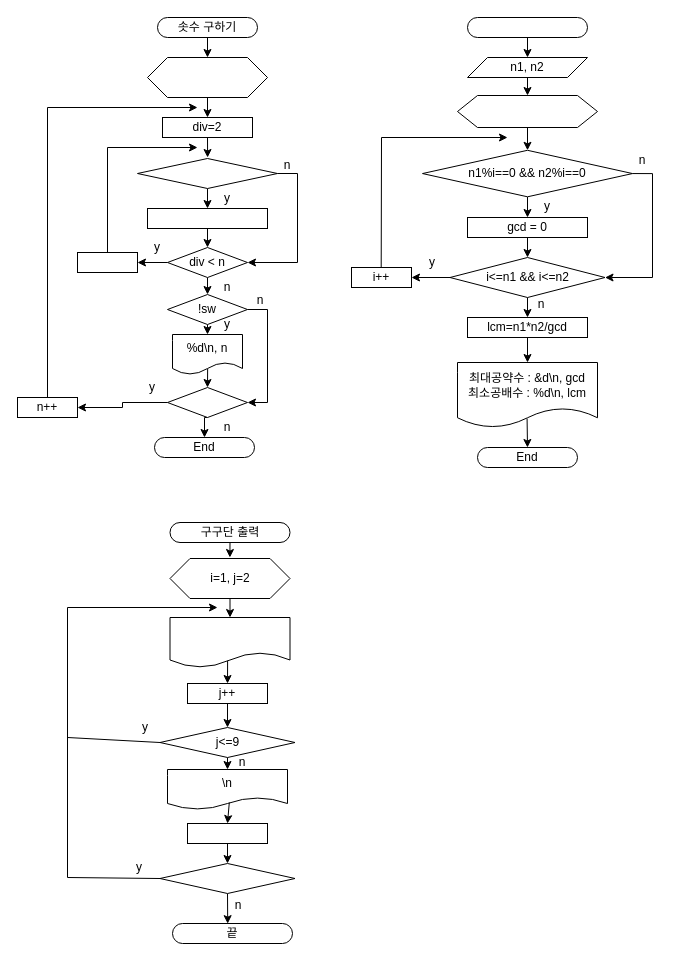
The diagram is 678 pixels wide and 961 high, and some of its shapes have lost their labels. The shapes that lost their labels are listed below. From the top down, each one's centre as x and y in pixels, then its label:
the point at 527,27: LCM, GCD 구하기
the point at 207,77: sw=0 n=2
the point at 527,111: i=1, lcm=0, gcd=0
the point at 207,173: n % div ==0
the point at 207,218: sw=1
the point at 107,262: div++
the point at 207,402: n<=100
the point at 229,642: %d*%d=%d\t, j,i,i*j
the point at 227,833: i++, j=2
the point at 227,878: i<=9
